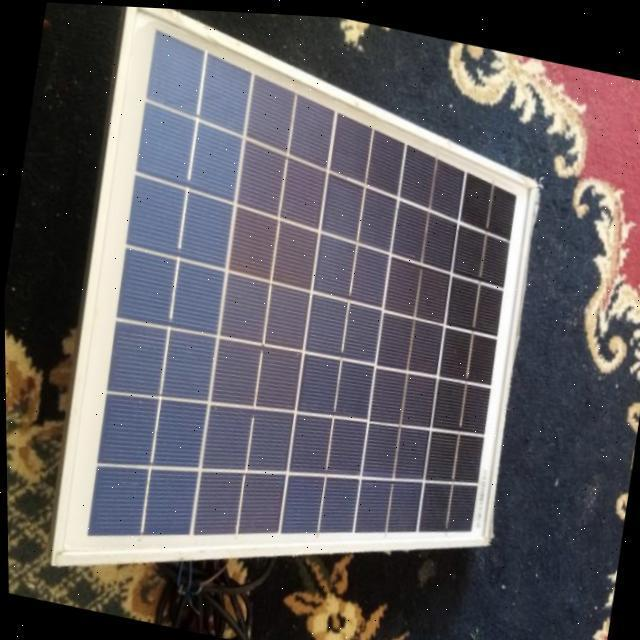Normal Solar Panel: (43, 2, 561, 640)
